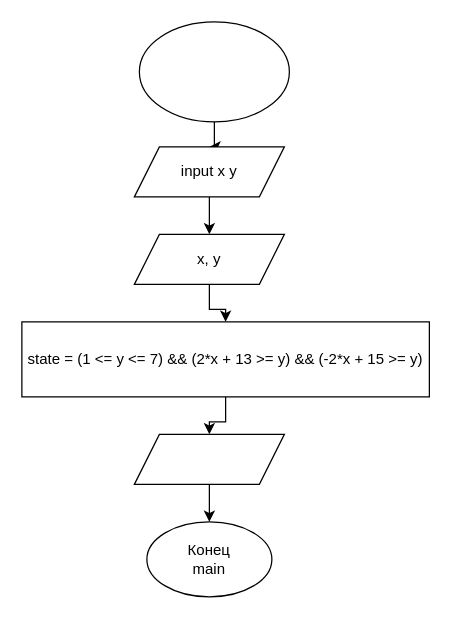
Some shapes in this 451 by 619 pixel diagram are drawn without their labels. Each missing label, with the centre of its shape:
state: (208,458)
Начало main: (213,71)
